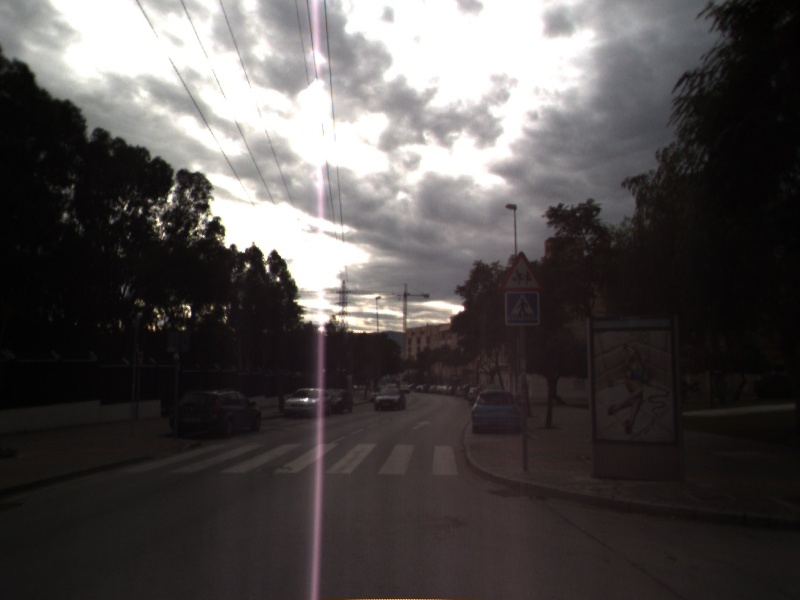STRAIGHT: (409, 418, 433, 432)
